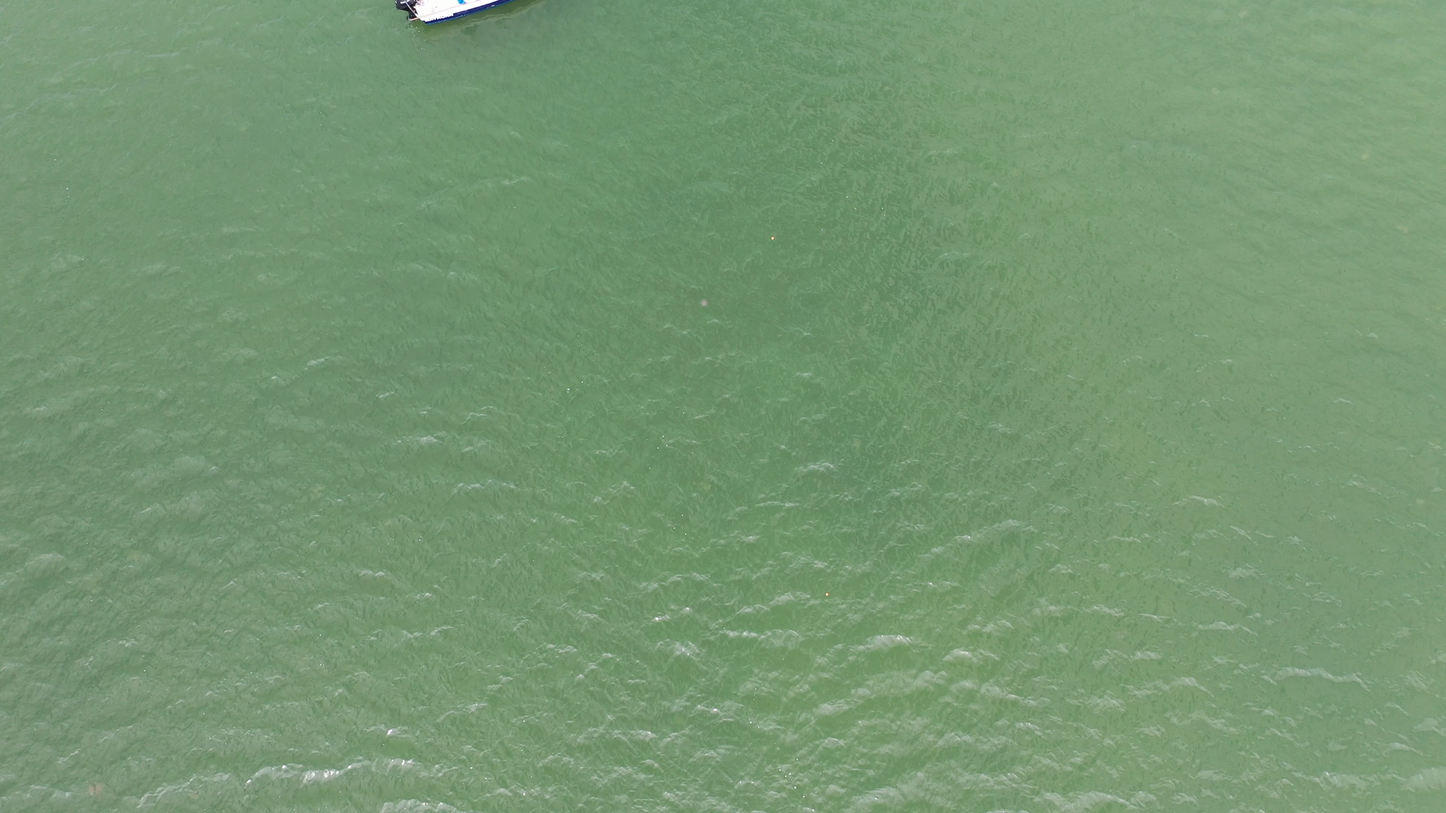meduse: (700, 298, 711, 308), (1236, 11, 1247, 20), (1360, 152, 1370, 161), (383, 519, 393, 526)
